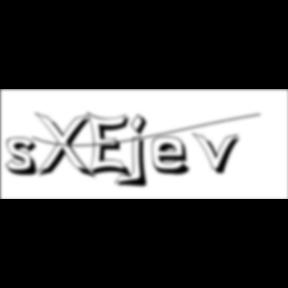E: (86, 110, 136, 182)
X: (34, 112, 98, 182)
e: (152, 135, 198, 178)
j: (128, 113, 154, 191)
s: (6, 137, 44, 179)
v: (192, 131, 246, 177)
